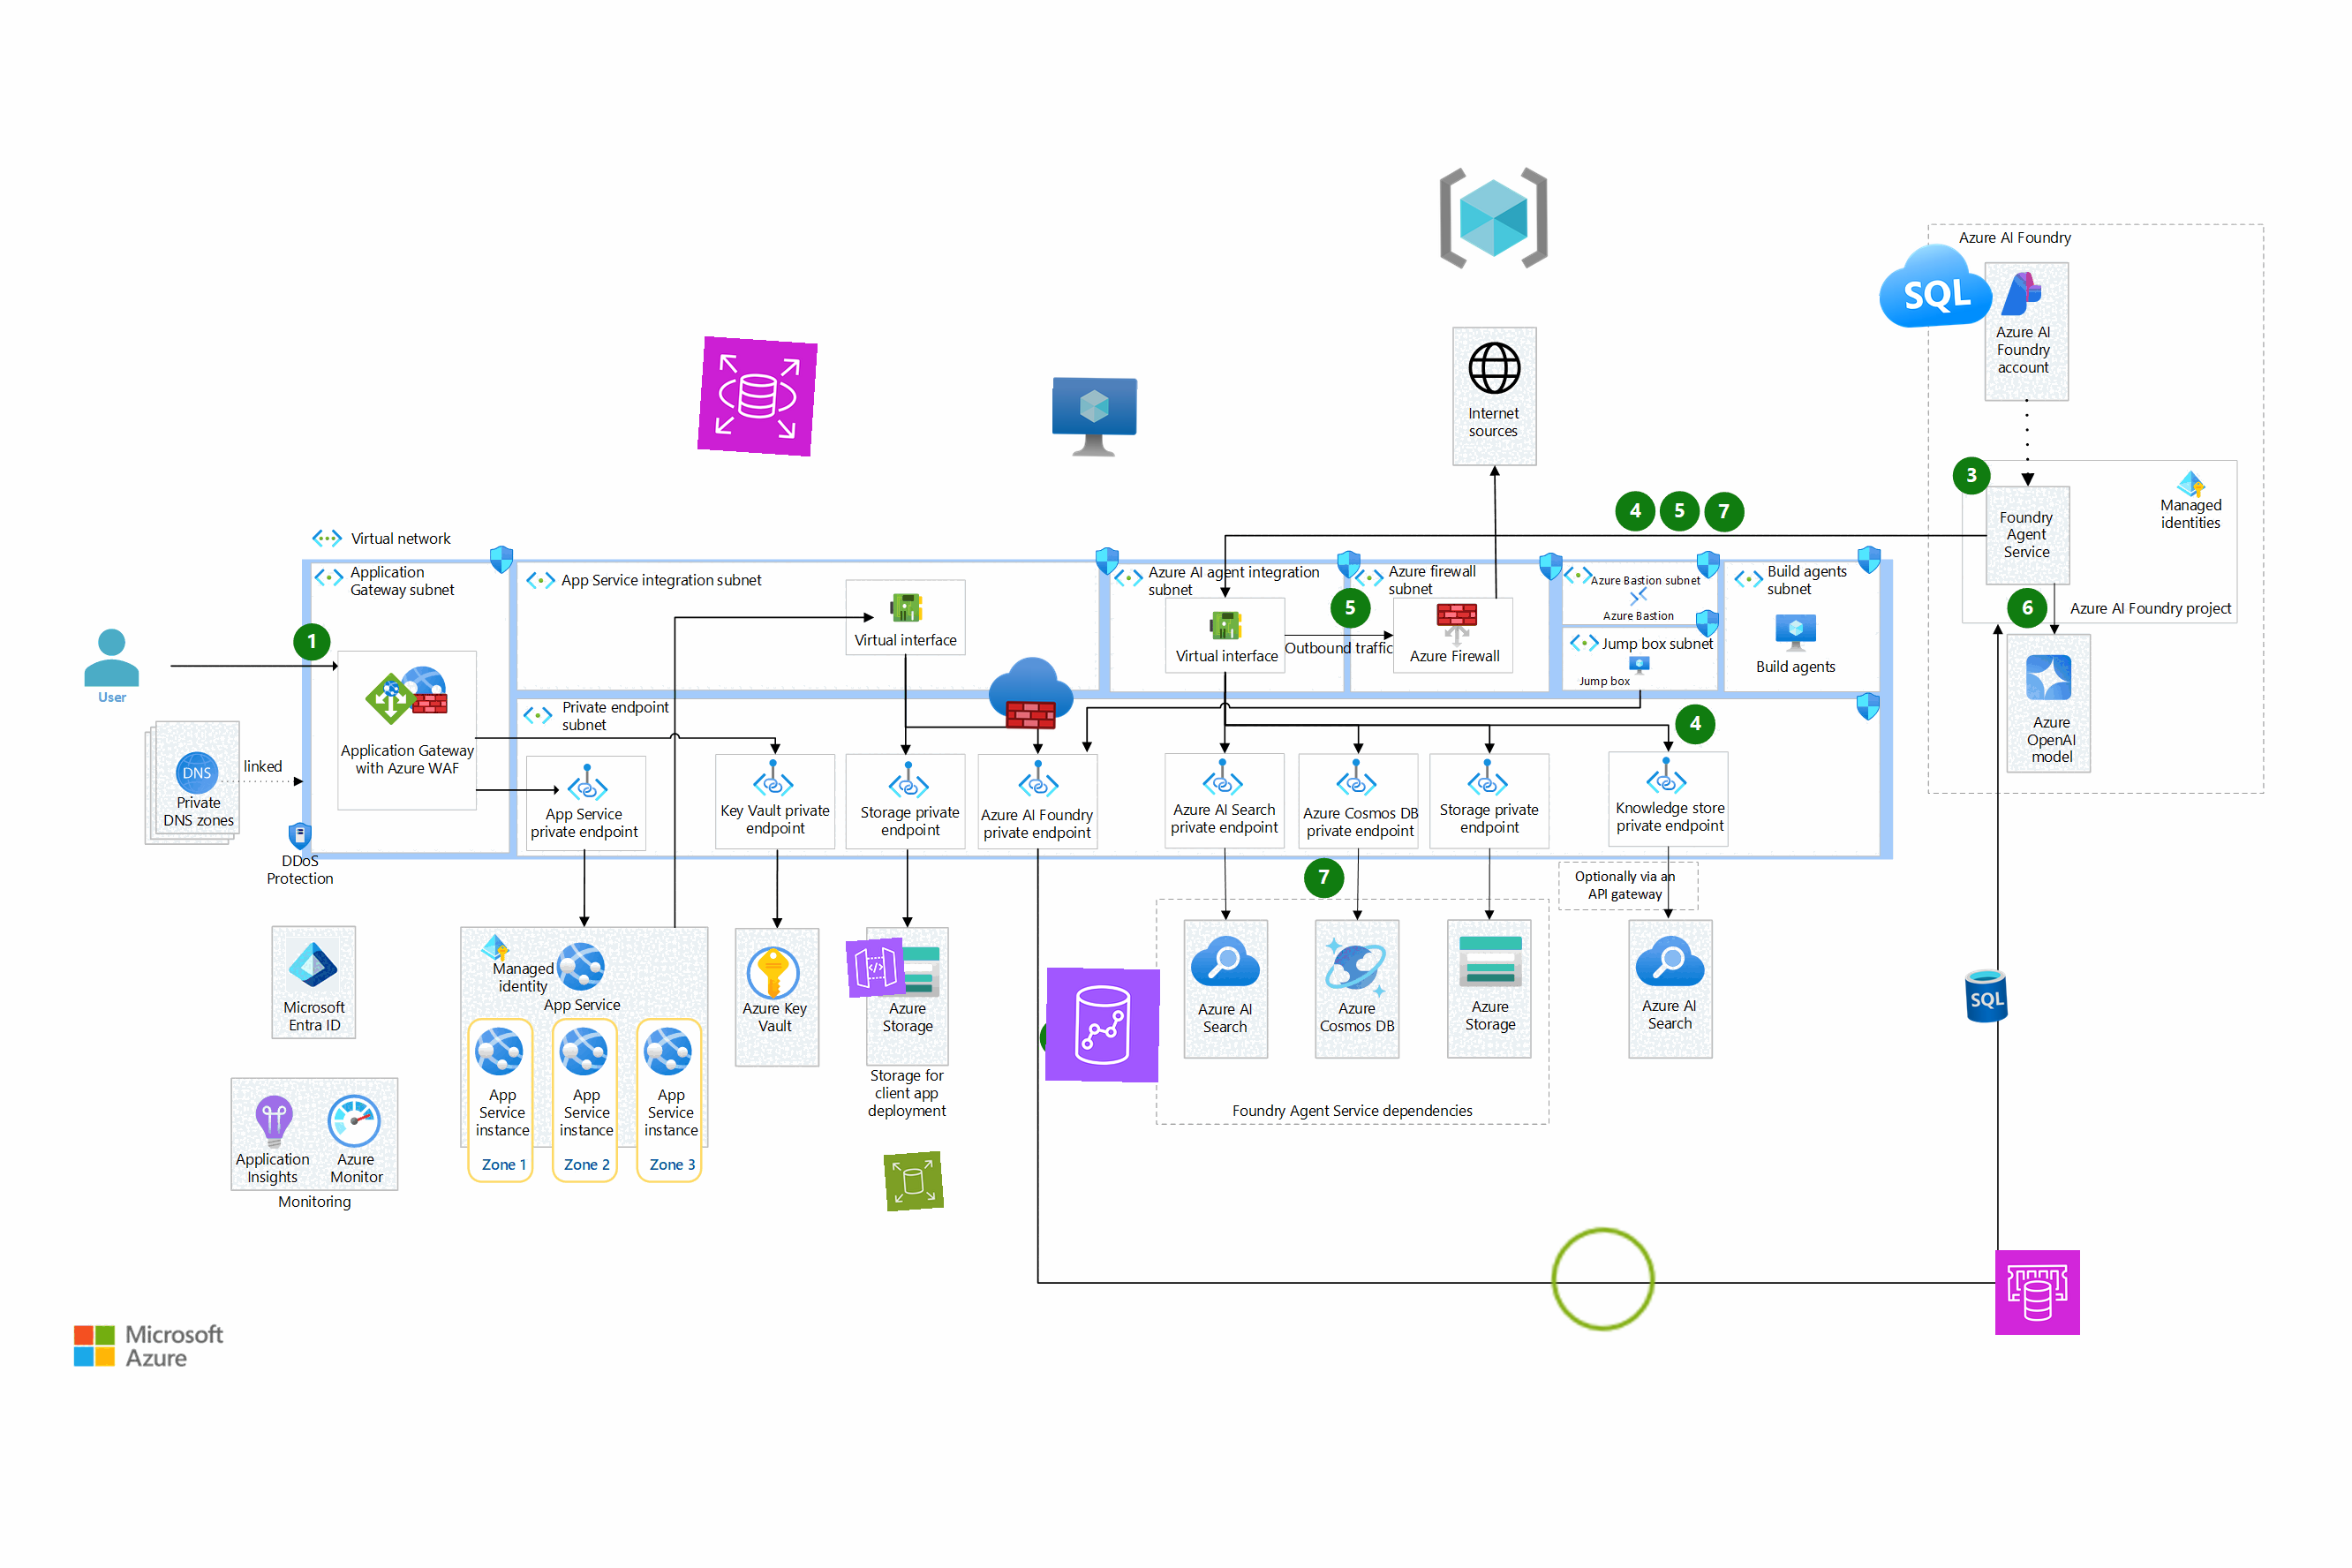aws_amazon_api_gateway: (845, 936, 906, 999)
aws_amazon_elastic_block_store: (884, 1150, 945, 1213)
aws_amazon_elasticache: (1995, 1249, 2081, 1335)
aws_amazon_rds: (696, 336, 819, 457)
aws_amazon_redshift: (1045, 966, 1160, 1083)
aws_simple_storage_service_object: (1543, 1220, 1662, 1339)
azure_firewalls: (989, 649, 1074, 737)
azure_resource_groups: (1437, 161, 1550, 275)
azure_sql: (1876, 227, 1995, 346)
azure_sql_database: (1956, 966, 2016, 1025)
azure_virtual_machine: (1052, 376, 1137, 462)
